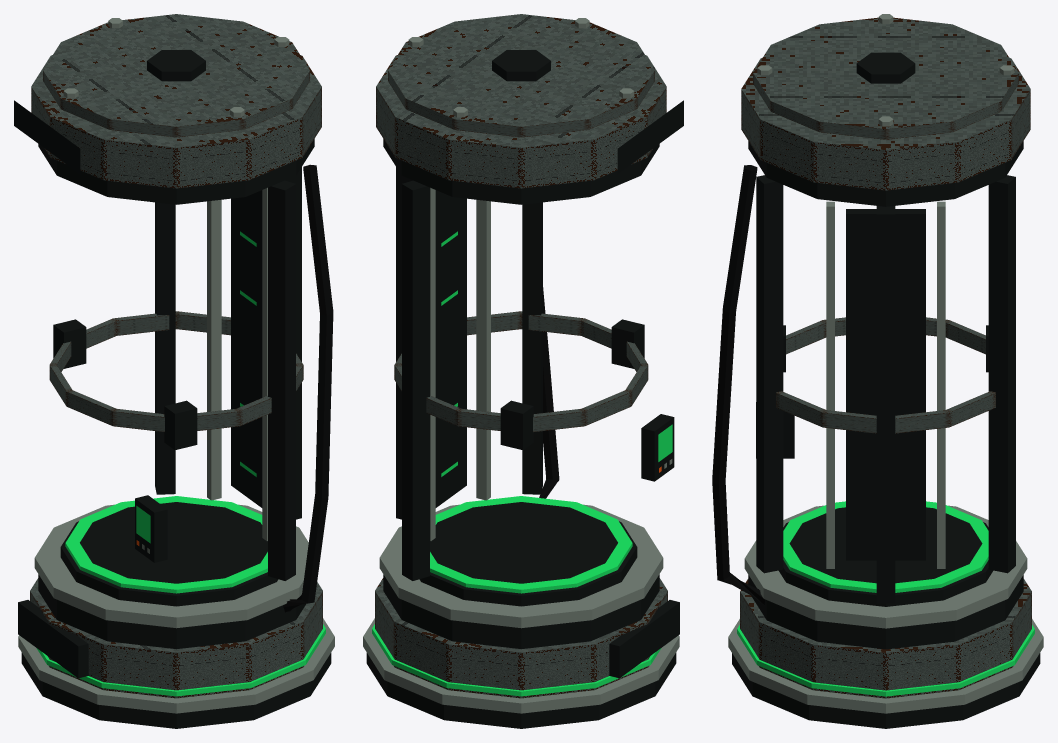
File: capsula.obj
3 views of the same model, side by side, from view 1: azimuth 30°, elevation 25°; view 2: azimuth 150°, elevation 25°; view 3: azimuth 270°, elevation 25° (orthographic).
Bounding box in the file's own units: 2.68 × 5.63 × 2.82.
6 materials, 1 textured.
